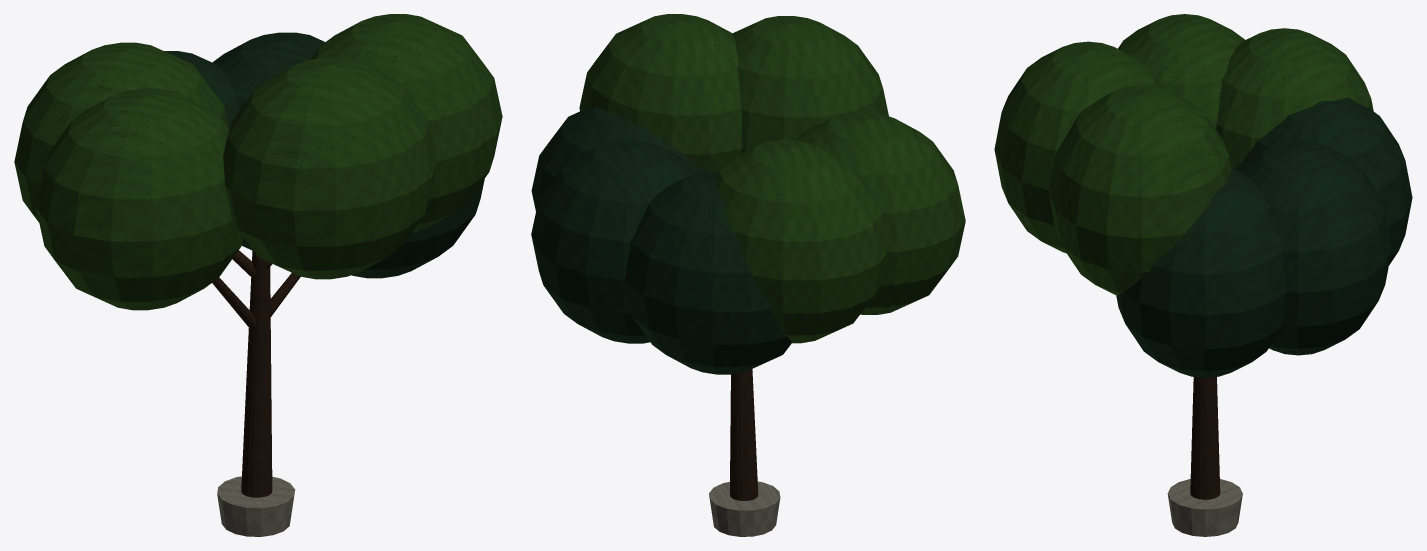
Rendered from PROP-74F7C6896AD0_lod0.glb.
The picture shows the model from 3 angles, left to right: view 1: azimuth 30°, elevation 25°; view 2: azimuth 150°, elevation 25°; view 3: azimuth 270°, elevation 25°; orthographic projection. The views are drawn at different scales.
Parts seen in each view (by area): view 1: leaf_crown.009, leaf_crown.008, trunk.016, tree_planter, branch.004; view 2: leaf_crown.009, leaf_crown.008, trunk.016, tree_planter; view 3: leaf_crown.009, leaf_crown.008, trunk.016, tree_planter.
Boxes of the visible parts, x1,y1,x2,y2 form: leaf_crown.009: (14, 14, 502, 310); leaf_crown.008: (164, 32, 484, 278); trunk.016: (241, 249, 272, 497); tree_planter: (217, 476, 295, 536); branch.004: (212, 250, 300, 329); leaf_crown.009: (579, 14, 965, 343); leaf_crown.008: (531, 106, 792, 374); trunk.016: (730, 369, 758, 500); tree_planter: (709, 481, 780, 536); leaf_crown.009: (994, 14, 1373, 295); leaf_crown.008: (1116, 97, 1412, 377); trunk.016: (1190, 377, 1220, 499); tree_planter: (1167, 479, 1242, 536).
Size of the model in its own units: 7.35 by 7.96 by 6.32.
4 materials, 4 textured.
